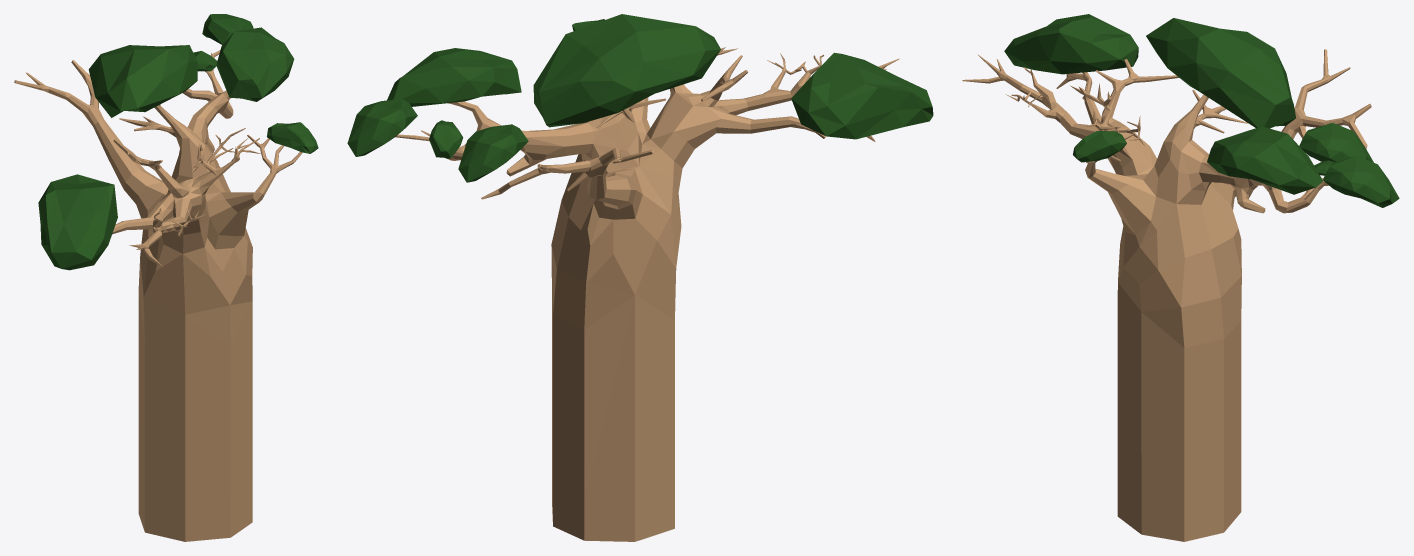
The model's file is Baobab_small.fbx.
The picture shows the model from 3 angles, left to right: view 1: azimuth 30°, elevation 25°; view 2: azimuth 150°, elevation 25°; view 3: azimuth 270°, elevation 25°; orthographic projection. The views are drawn at different scales.
Bounding box in the file's own units: 173 × 214 × 180.
